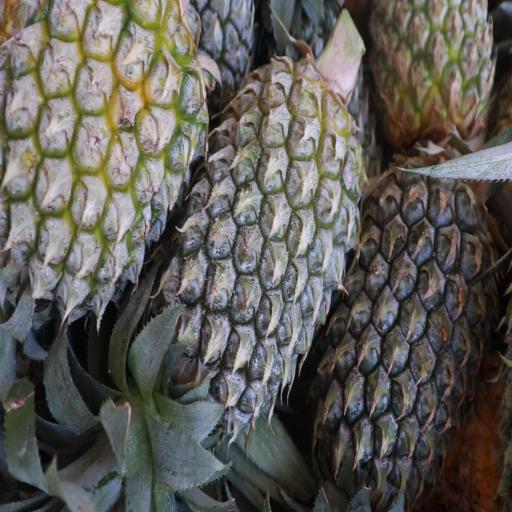------------------------------: (0, 0, 201, 299), (367, 0, 502, 145)
